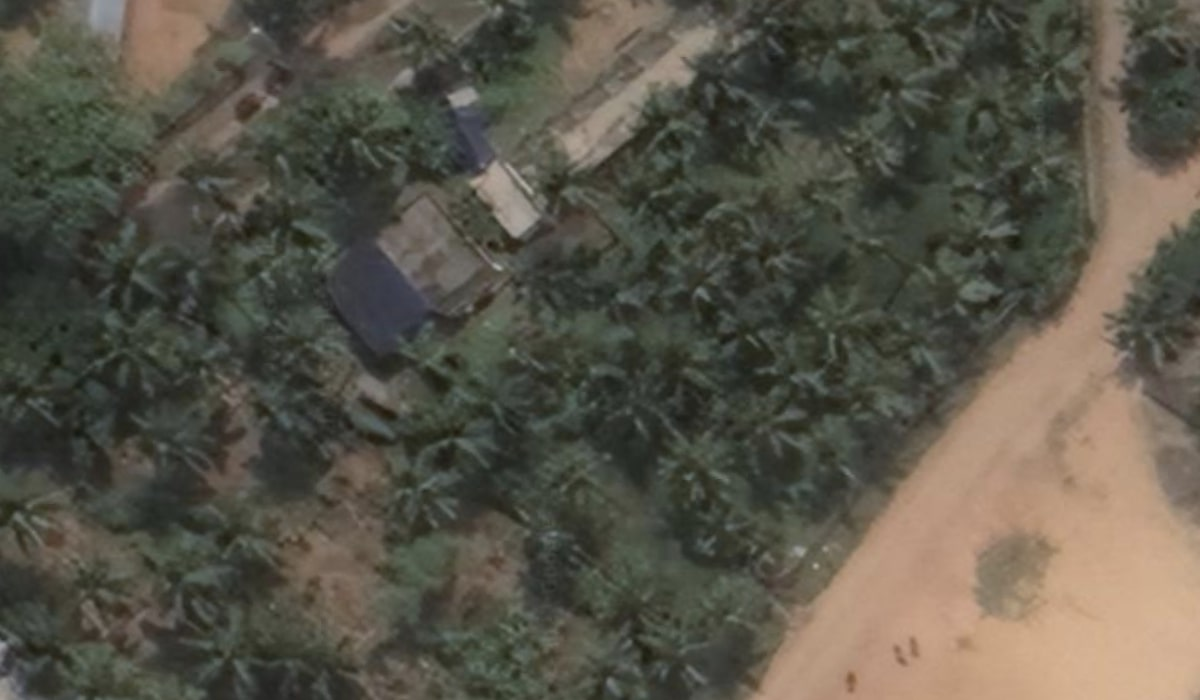coconut: (935, 175, 1024, 278), (66, 215, 165, 307), (715, 201, 814, 287), (645, 416, 733, 511), (178, 599, 265, 693), (619, 81, 706, 170), (87, 312, 171, 404), (656, 241, 741, 325), (2, 472, 76, 566), (195, 496, 283, 574), (641, 600, 717, 689), (796, 280, 881, 358), (713, 81, 800, 156), (563, 626, 648, 700), (378, 465, 466, 536), (129, 405, 218, 475), (881, 50, 956, 132), (729, 380, 799, 453), (895, 314, 956, 385)
